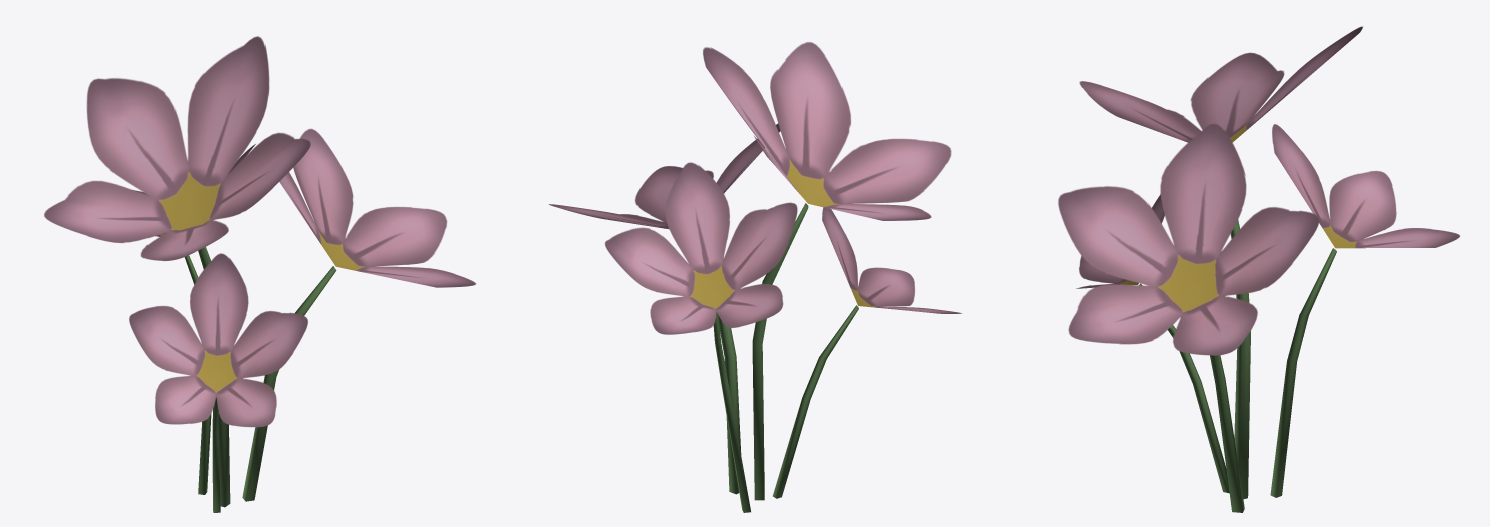
Rendered from Flower_4.glb.
The picture shows the model from 3 angles, left to right: view 1: azimuth 30°, elevation 25°; view 2: azimuth 150°, elevation 25°; view 3: azimuth 270°, elevation 25°; orthographic projection. The views are drawn at different scales.
Visible parts, largest first — view 1: Flower_4_Clump; view 2: Flower_4_Clump; view 3: Flower_4_Clump.
Boxes of the visible parts, x1,y1,x2,y2 form: Flower_4_Clump: [44, 36, 475, 512]; Flower_4_Clump: [548, 42, 961, 512]; Flower_4_Clump: [1058, 26, 1459, 512].
Bounding box in the file's own units: 0.426 × 0.4508 × 0.3735.
1 material, 1 textured.
